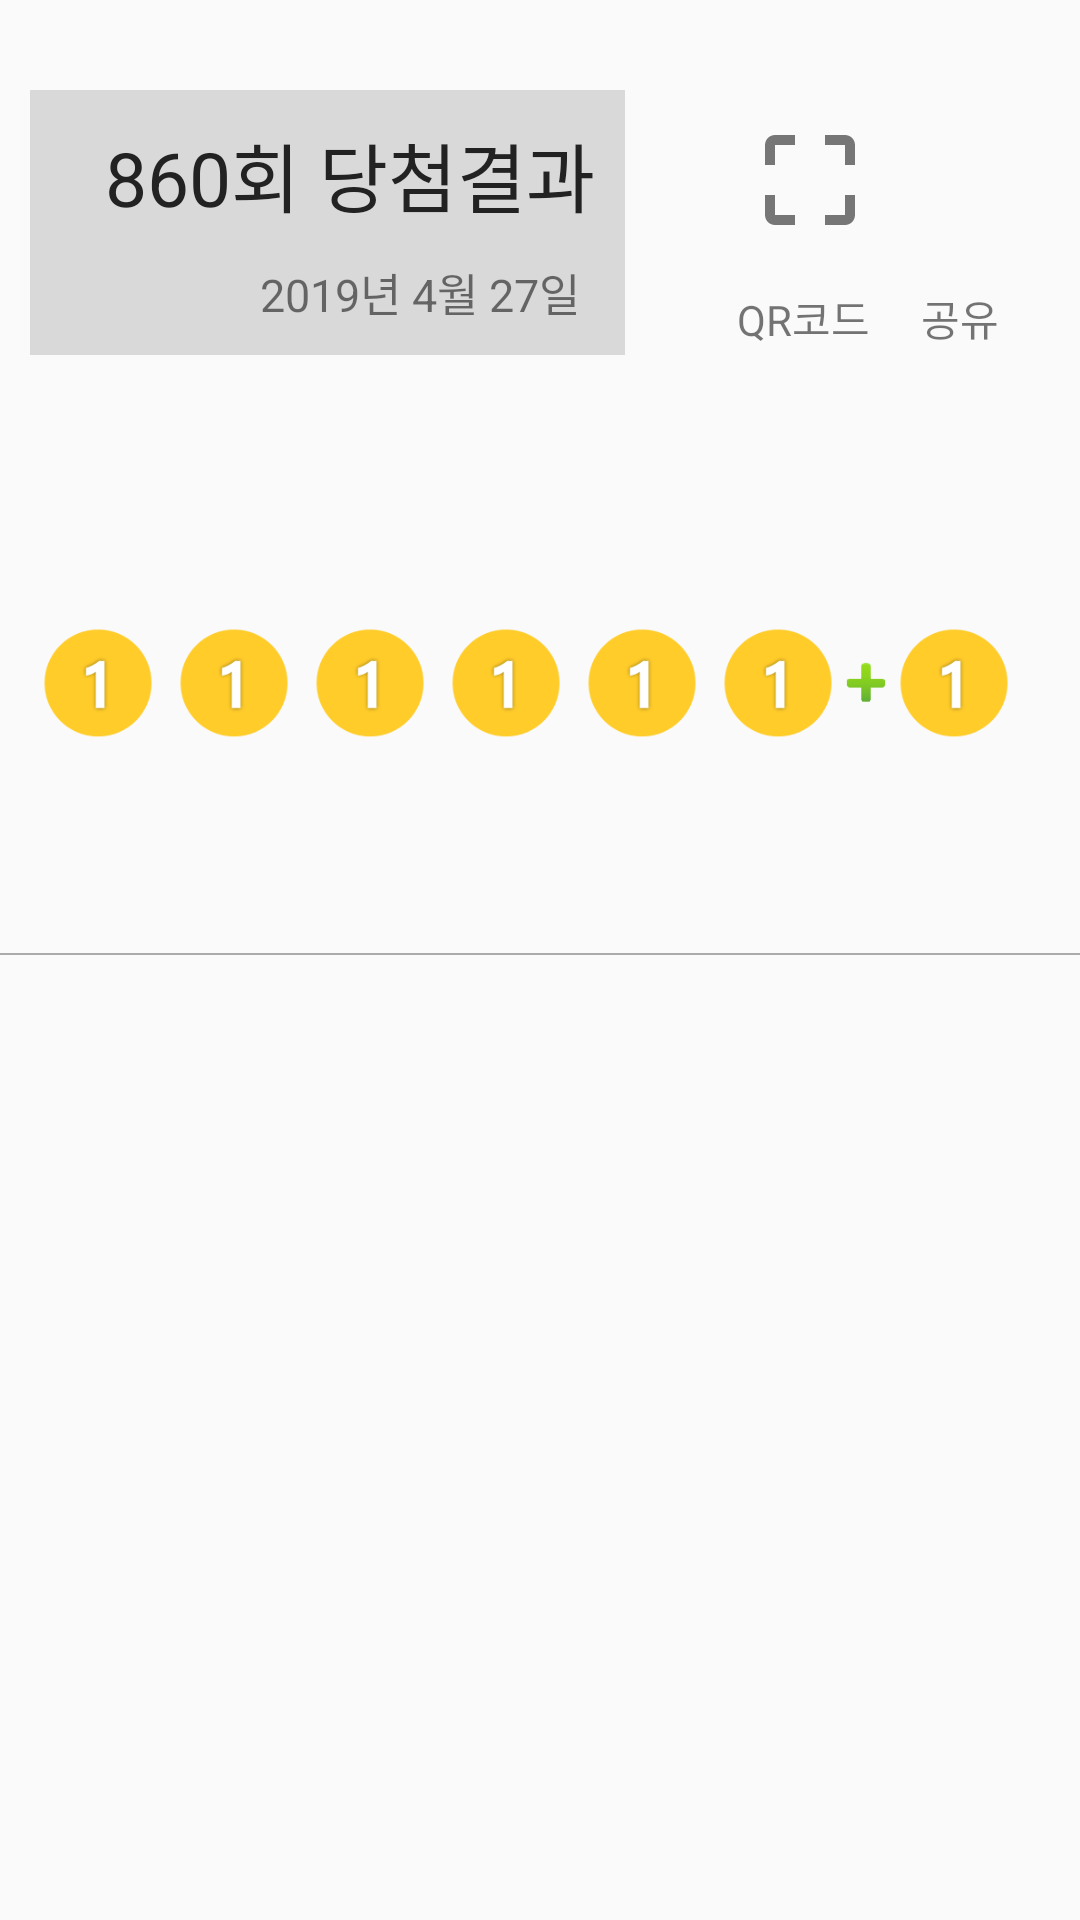

Screen size 1080x1920. Icon name, then its center in pixels as point (x, y):
plus: point (866, 682)
qrcord: point (810, 180)
